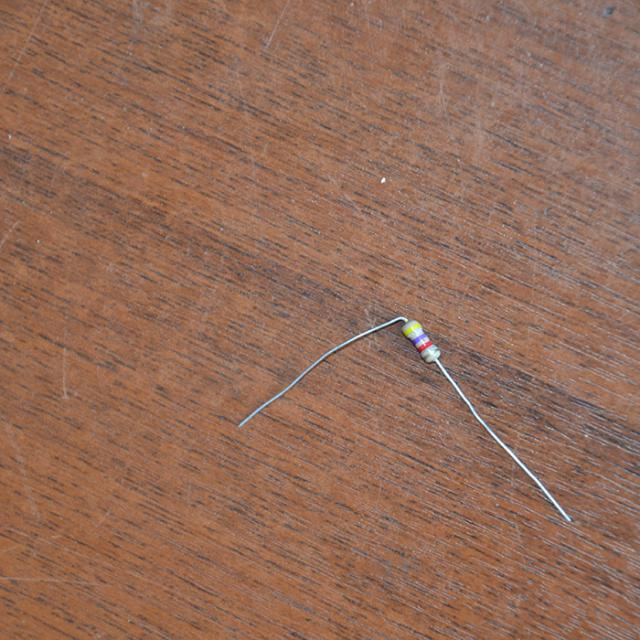gold: (423, 347, 440, 360)
red: (418, 341, 432, 352)
resistor: (387, 310, 462, 361)
violet: (414, 333, 427, 345)
yellow: (404, 323, 421, 336)
